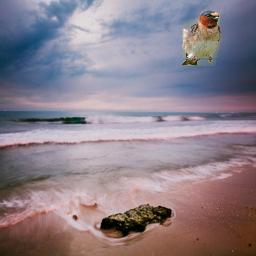Swallow: (181, 10, 222, 66)
